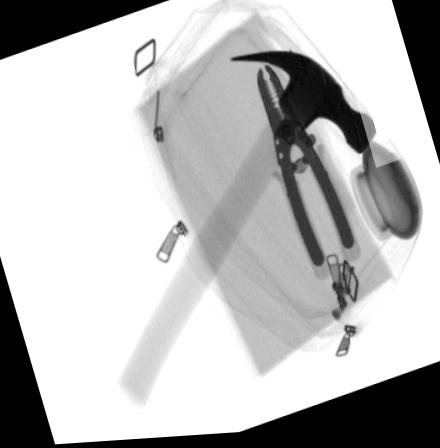Hammer: (119, 53, 380, 408)
Pliers: (256, 67, 360, 284)
